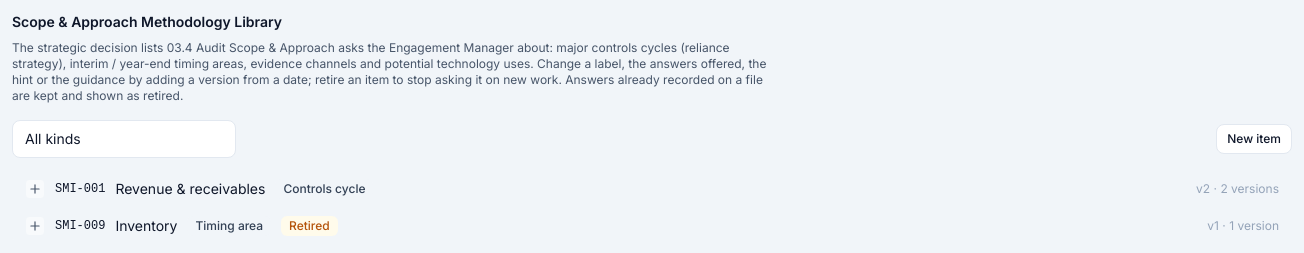
it: 03.4 Scope & Approach Methodology Library administration › filters by kind
Check: the text "Revenue & receivables" is shown, box [115,179,265,199]
Select "Timing area" in the dropdown named "Filter by kind" at (124, 139), box [12,120,236,158]
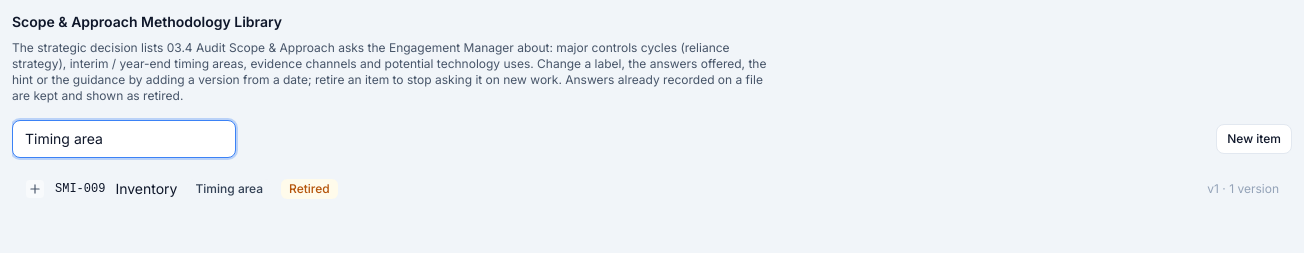
Check: the text "Inventory" is shown, box [115,179,178,199]
Check: the button "Revenue & receivables" is gone
